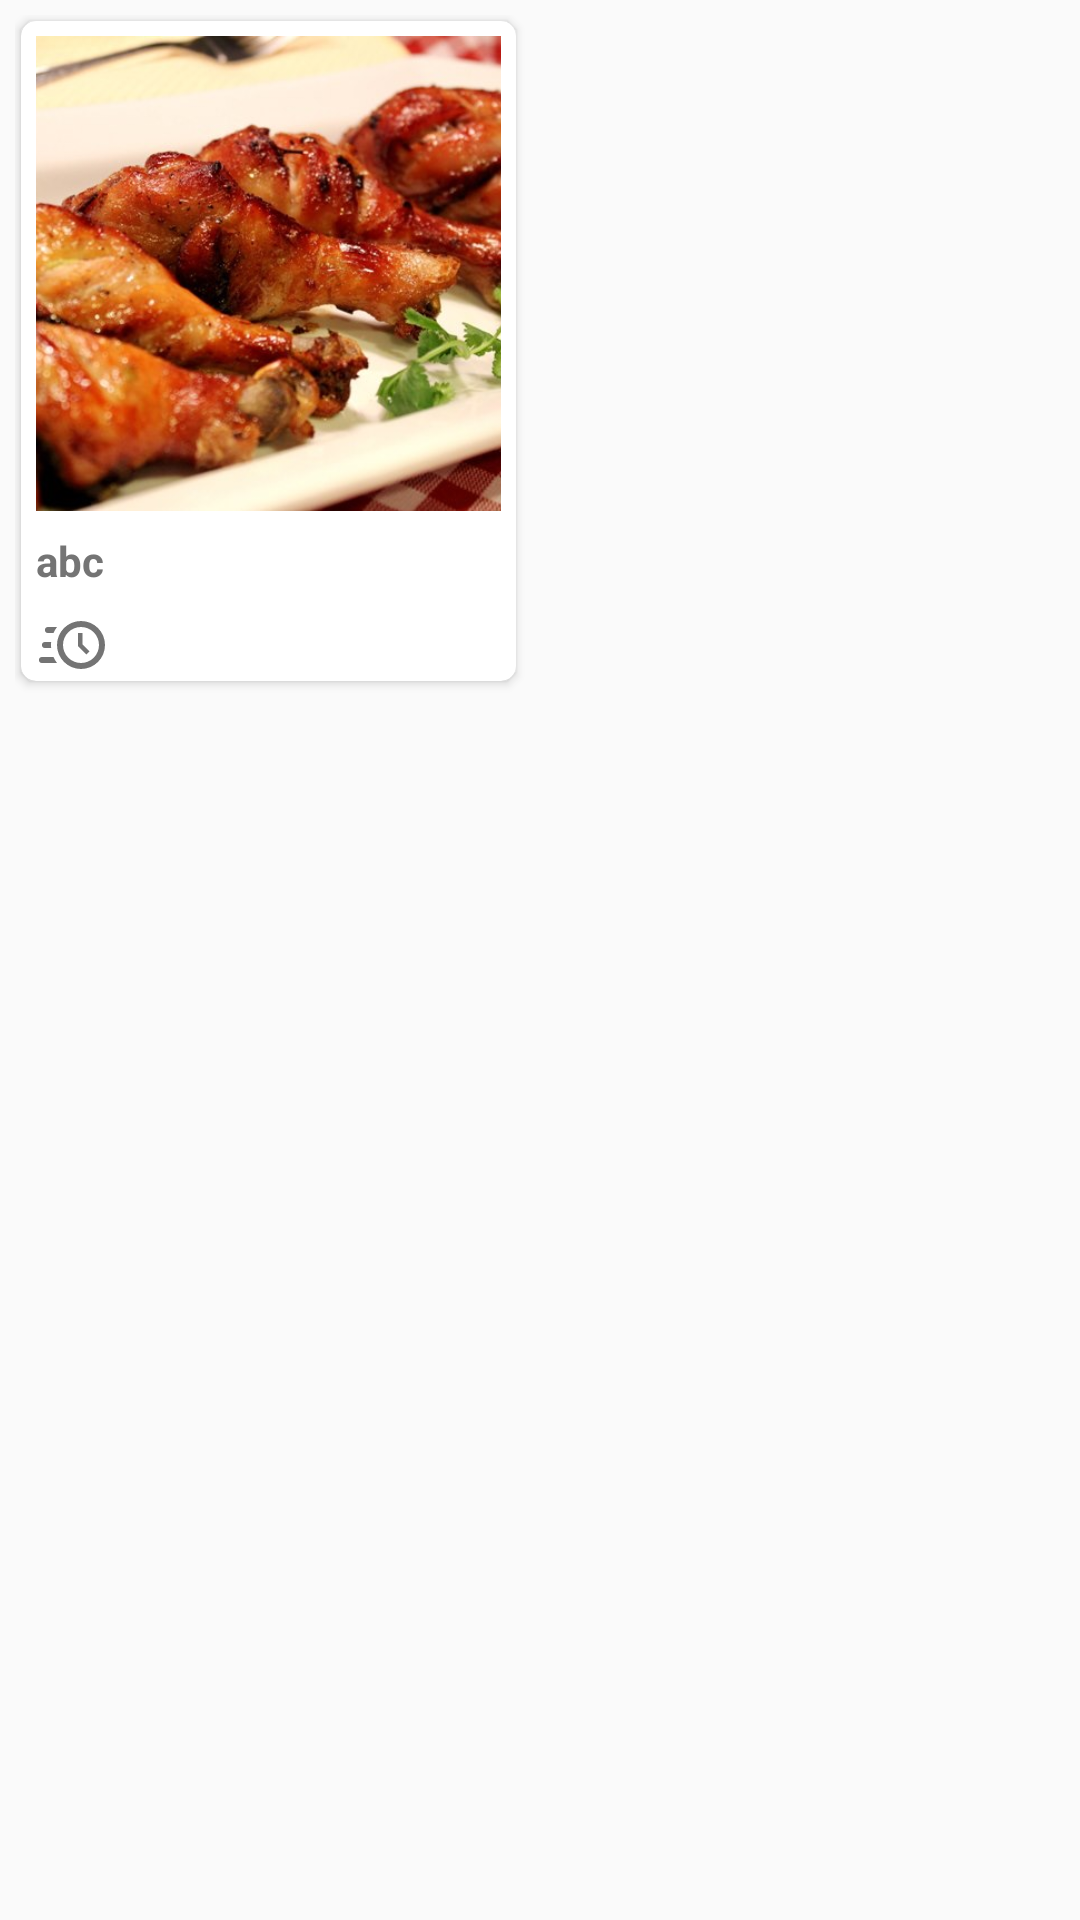

Icons on this 1080x1920 Android screen, each with the point to tap as [x,y]:
clock fast: [72,645]
